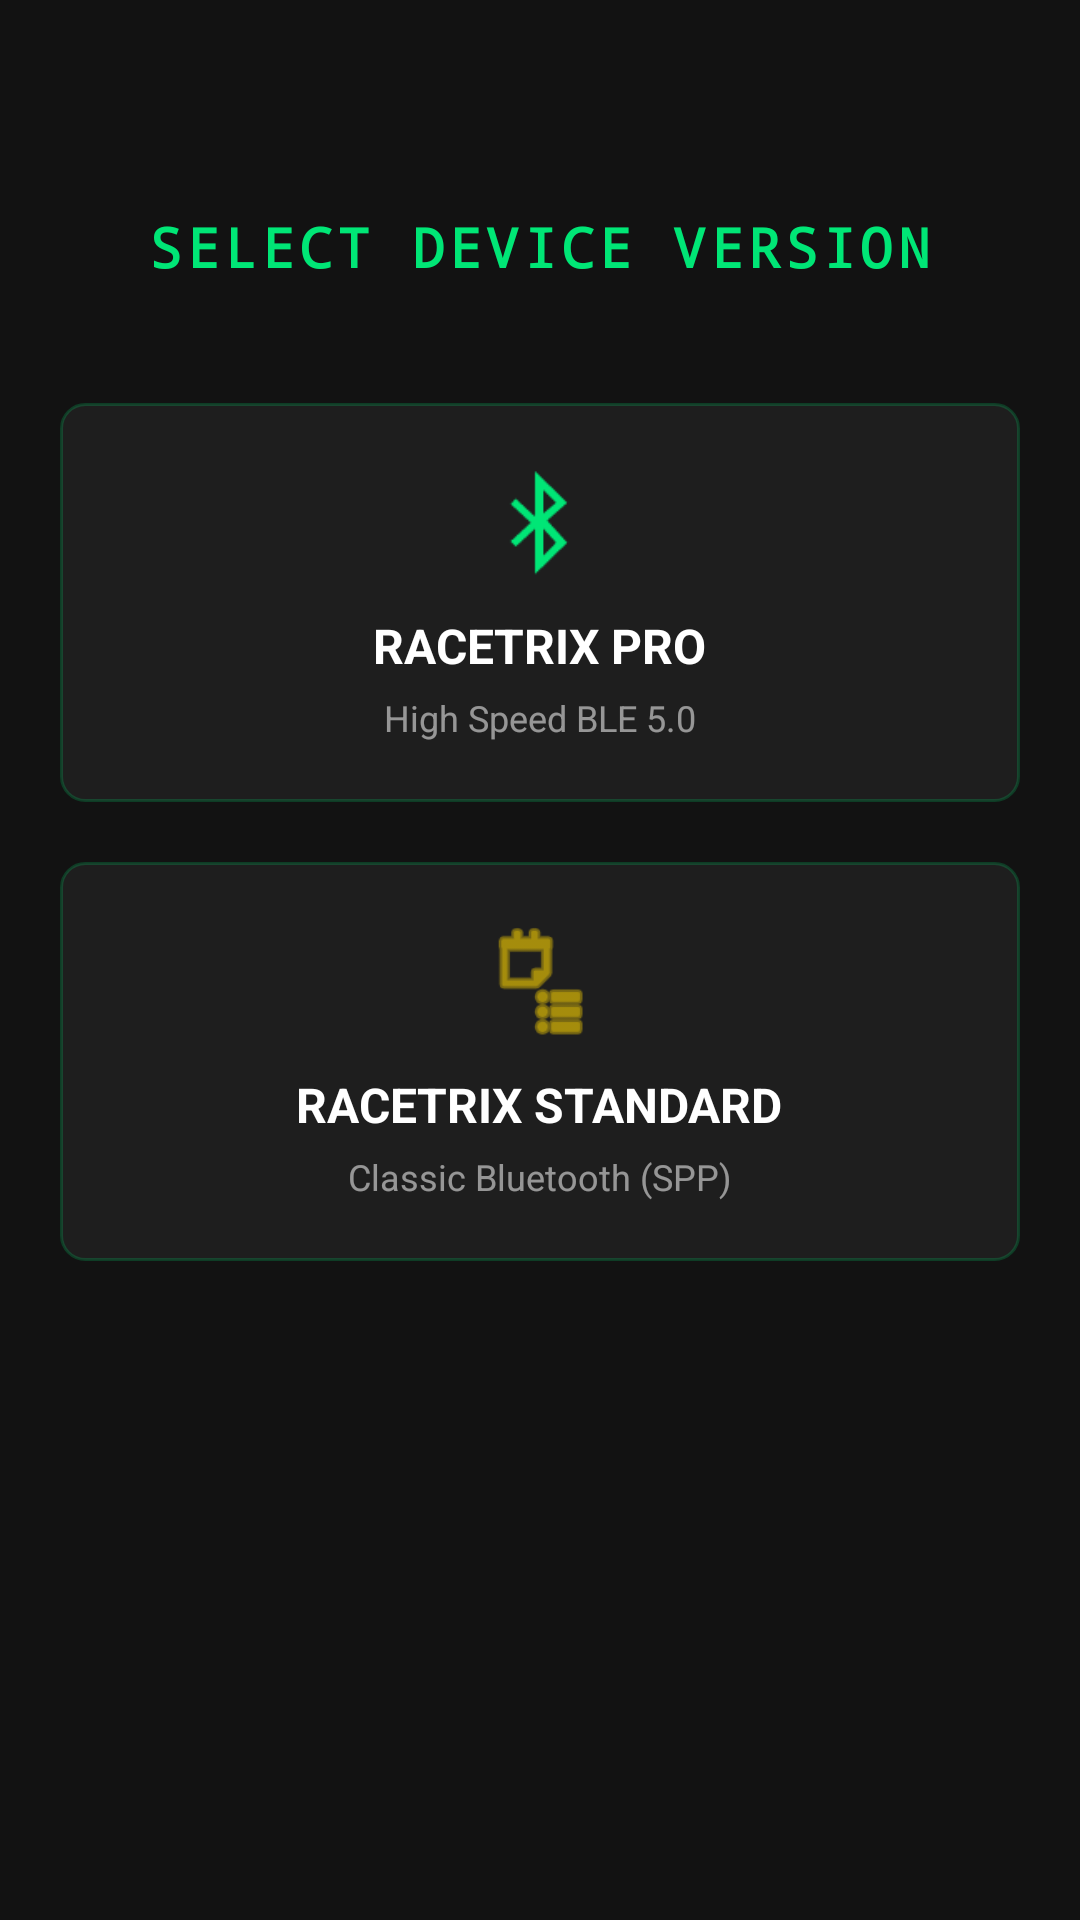

Icons on this 1080x1920 Android screen, each with the point to tap as point (x, y):
agenda: point (540, 981)
